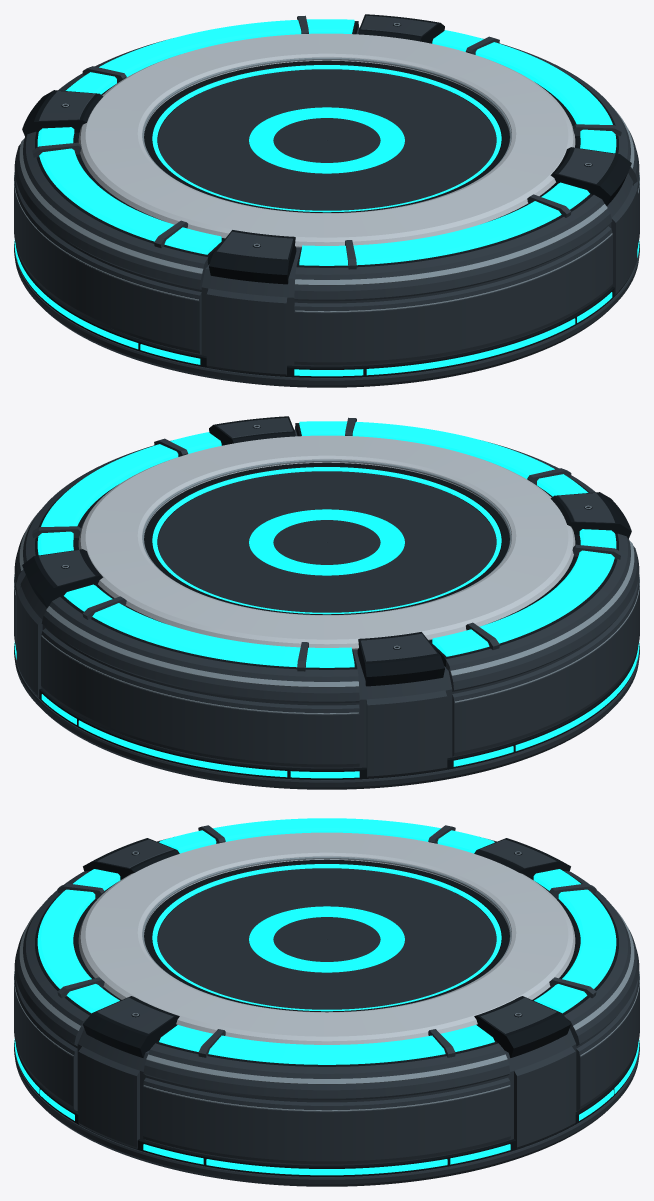
File: Standard.glb
3 renders of one model, top to bottom at view 1: azimuth 30°, elevation 25°; view 2: azimuth 150°, elevation 25°; view 3: azimuth 270°, elevation 25°, orthographic.
Visible parts, largest first — view 1: Broad brushed steel crown, Recessed center face, Side armor panel 4, Side armor panel 3, Upper shoulder armor 4, Upper shoulder armor 3, Diagonal side joint 3, Rounded lower bumper, Continuous structural core, Top cyan window 4.2, Center cyan O emblem, Top cyan window 3.2 (+31 smaller); view 2: Broad brushed steel crown, Recessed center face, Side armor panel 2, Side armor panel 3, Upper shoulder armor 2, Upper shoulder armor 3, Diagonal side joint 2, Rounded lower bumper, Continuous structural core, Top cyan window 2.2, Center cyan O emblem, Top cyan window 3.2 (+31 smaller); view 3: Broad brushed steel crown, Recessed center face, Side armor panel 1, Upper shoulder armor 1, Rounded lower bumper, Diagonal side joint 1, Diagonal side joint 4, Top cyan window 1.2, Center cyan O emblem, Continuous structural core, Side armor panel 2, Side armor panel 4 (+33 smaller).
Boxes of the visible parts, x1,y1,x2,y2 form: Broad brushed steel crown: [78, 33, 575, 247]; Recessed center face: [157, 69, 496, 210]; Side armor panel 4: [294, 226, 612, 365]; Side armor panel 3: [14, 173, 201, 354]; Upper shoulder armor 4: [294, 195, 612, 301]; Upper shoulder armor 3: [14, 131, 207, 289]; Diagonal side joint 3: [206, 288, 287, 376]; Rounded lower bumper: [14, 241, 639, 387]; Continuous structural core: [35, 27, 633, 366]; Top cyan window 4.2: [353, 201, 561, 265]; Center cyan O emblem: [249, 107, 404, 173]; Top cyan window 3.2: [39, 148, 174, 241]; Broad brushed steel crown: [78, 435, 575, 649]; Recessed center face: [157, 471, 496, 612]; Side armor panel 2: [41, 628, 359, 767]; Side armor panel 3: [452, 575, 639, 756]; Upper shoulder armor 2: [41, 597, 359, 703]; Upper shoulder armor 3: [446, 533, 639, 691]; Diagonal side joint 2: [366, 690, 447, 778]; Rounded lower bumper: [14, 643, 639, 789]; Continuous structural core: [20, 429, 618, 768]; Top cyan window 2.2: [92, 603, 300, 667]; Center cyan O emblem: [249, 509, 404, 575]; Top cyan window 3.2: [479, 550, 614, 643]; Broad brushed steel crown: [78, 832, 575, 1044]; Recessed center face: [157, 868, 496, 1009]; Side armor panel 1: [143, 1077, 510, 1164]; Upper shoulder armor 1: [143, 1043, 510, 1100]; Rounded lower bumper: [14, 1040, 639, 1186]; Diagonal side joint 1: [514, 1046, 575, 1149]; Diagonal side joint 4: [78, 1046, 139, 1149]; Top cyan window 1.2: [208, 1035, 445, 1064]; Center cyan O emblem: [249, 906, 404, 972]; Continuous structural core: [35, 920, 618, 1165]; Side armor panel 2: [576, 972, 639, 1110]; Side armor panel 4: [14, 972, 77, 1110].
Bounding box in the file's own units: 0.9 × 0.2 × 0.9.
